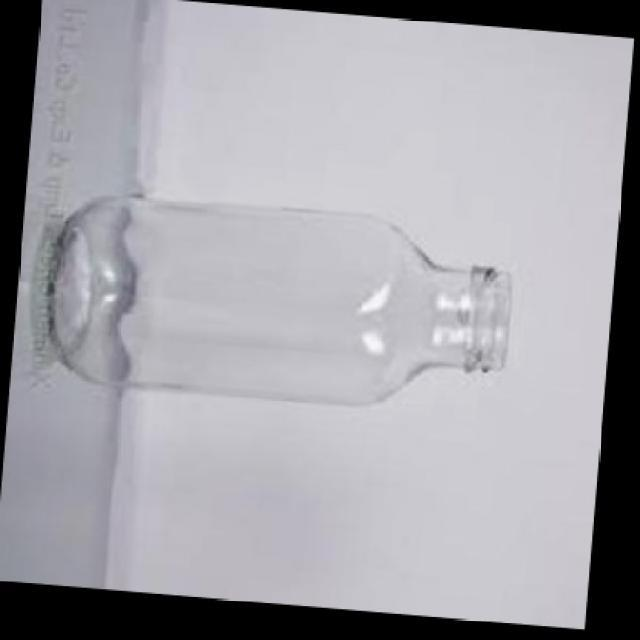Glass: (48, 196, 511, 408)
